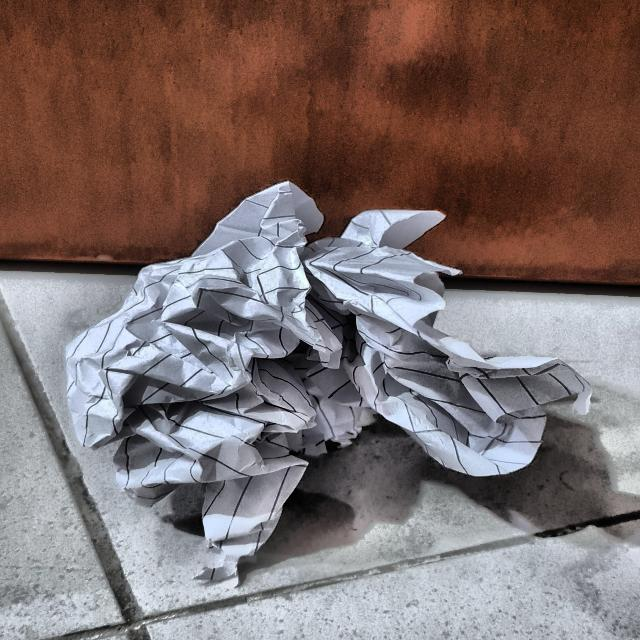paper: (79, 188, 541, 564)
